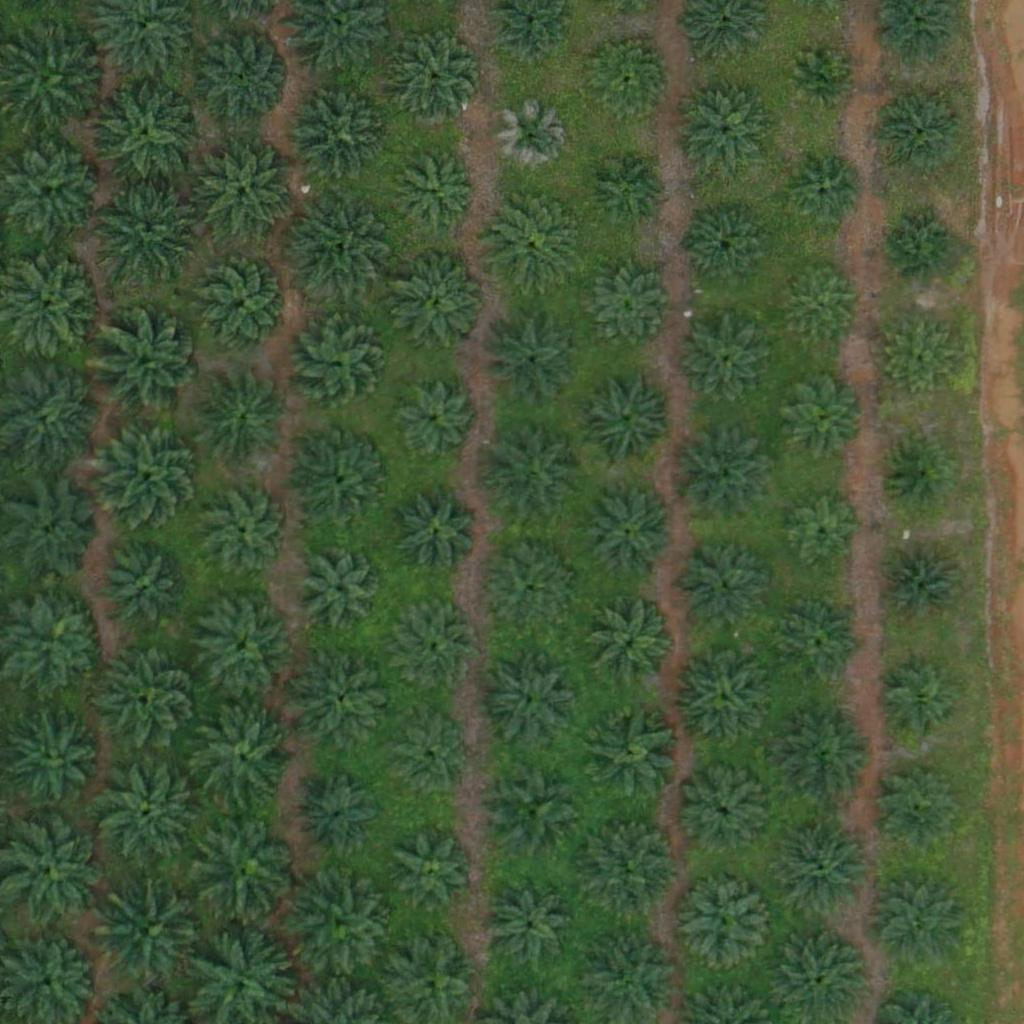Kelapa_Sawit: (88, 77, 201, 191), (96, 176, 209, 290), (90, 308, 203, 421), (92, 418, 205, 531), (283, 192, 395, 306), (91, 754, 203, 867), (98, 881, 210, 994), (3, 139, 103, 240), (289, 83, 389, 184), (487, 192, 587, 293), (670, 426, 770, 527), (575, 257, 675, 358), (575, 367, 675, 468), (481, 307, 581, 408), (294, 648, 394, 749), (192, 367, 292, 468), (193, 595, 293, 696), (193, 712, 293, 813), (97, 649, 197, 750), (2, 482, 102, 583), (3, 592, 103, 693), (484, 760, 584, 861), (579, 813, 679, 914), (675, 873, 775, 974), (777, 818, 877, 919), (193, 27, 293, 127), (195, 144, 295, 244), (773, 707, 873, 807), (673, 646, 773, 746), (579, 703, 679, 803), (484, 423, 584, 523), (479, 650, 579, 750), (389, 251, 489, 351), (288, 313, 388, 413), (292, 429, 392, 529), (192, 254, 292, 354), (194, 816, 294, 916), (292, 876, 392, 976), (583, 37, 671, 126), (685, 204, 773, 293), (681, 769, 769, 858), (584, 144, 672, 232), (875, 662, 963, 750), (875, 90, 963, 178), (778, 599, 866, 687), (680, 318, 768, 406), (679, 543, 767, 631), (392, 380, 480, 468), (101, 544, 189, 632), (486, 883, 574, 971), (776, 371, 863, 459), (879, 543, 966, 631), (393, 37, 480, 125), (682, 90, 769, 178), (584, 491, 671, 579), (587, 602, 674, 690), (487, 551, 574, 639), (299, 543, 386, 631), (201, 487, 288, 575), (875, 763, 962, 851), (875, 878, 962, 966), (399, 154, 474, 230), (401, 497, 476, 573), (399, 608, 474, 684), (302, 778, 377, 854), (396, 831, 471, 907), (789, 155, 864, 230), (787, 497, 862, 572), (879, 318, 954, 393), (886, 210, 961, 285), (495, 101, 570, 176), (781, 266, 856, 341), (391, 723, 466, 798), (884, 441, 947, 504), (791, 50, 854, 113)
